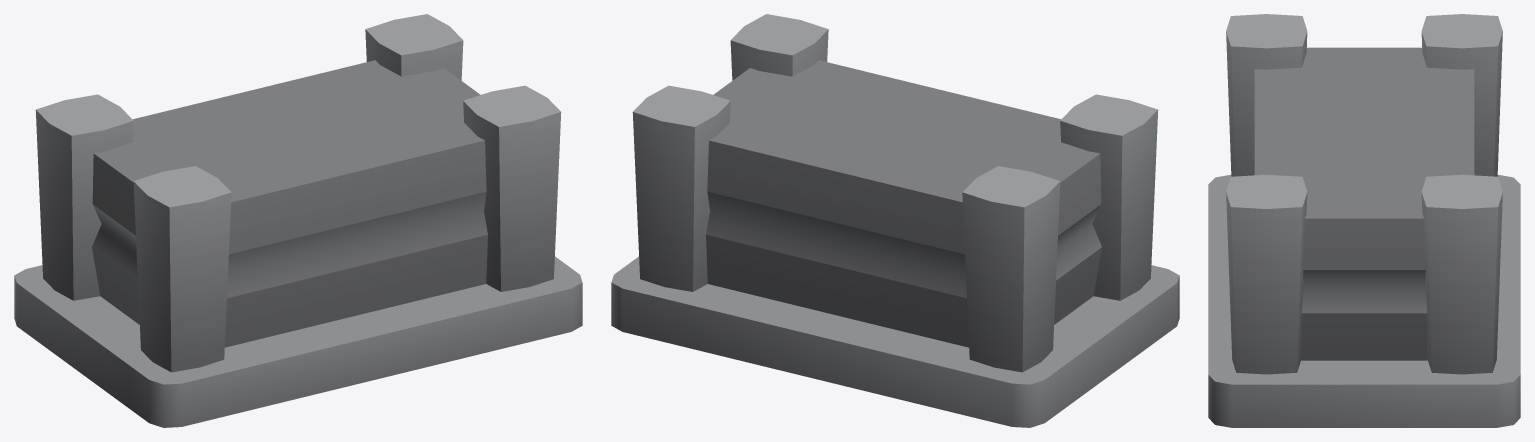
Rendered from altar-stone.glb.
3 renders of one model, left to right at view 1: azimuth 30°, elevation 25°; view 2: azimuth 150°, elevation 25°; view 3: azimuth 270°, elevation 25°, orthographic.
Visible parts, largest first — view 1: altar-stone; view 2: altar-stone; view 3: altar-stone.
Boxes of the visible parts, x1,y1,x2,y2 form: altar-stone: [14, 14, 582, 427]; altar-stone: [611, 14, 1179, 427]; altar-stone: [1208, 14, 1520, 427].
Size of the model in its own units: 1.56 by 0.7314 by 0.9798.
Materials: 1 (1 with a texture image).
